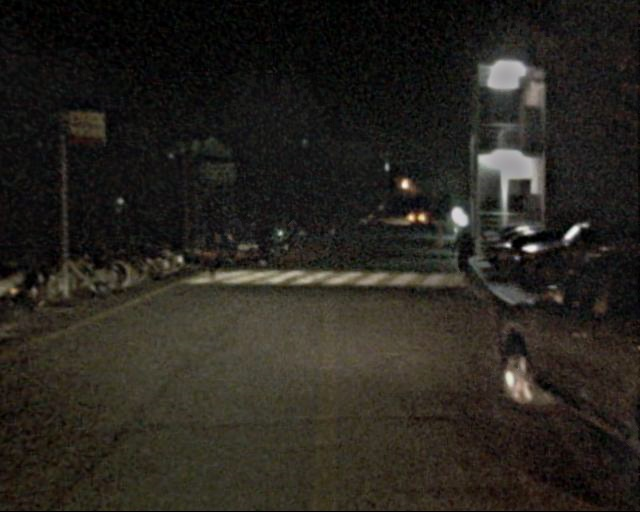person: (450, 228, 474, 287), (195, 224, 218, 280), (247, 219, 265, 262)
